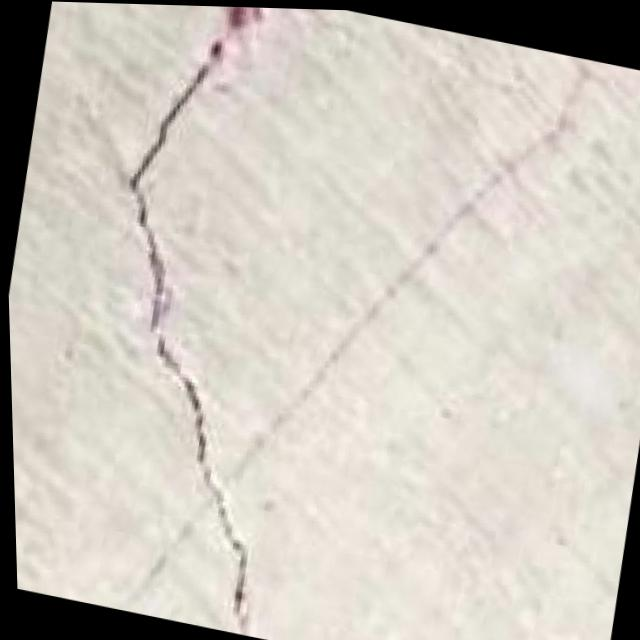Crack: (34, 1, 391, 640)
